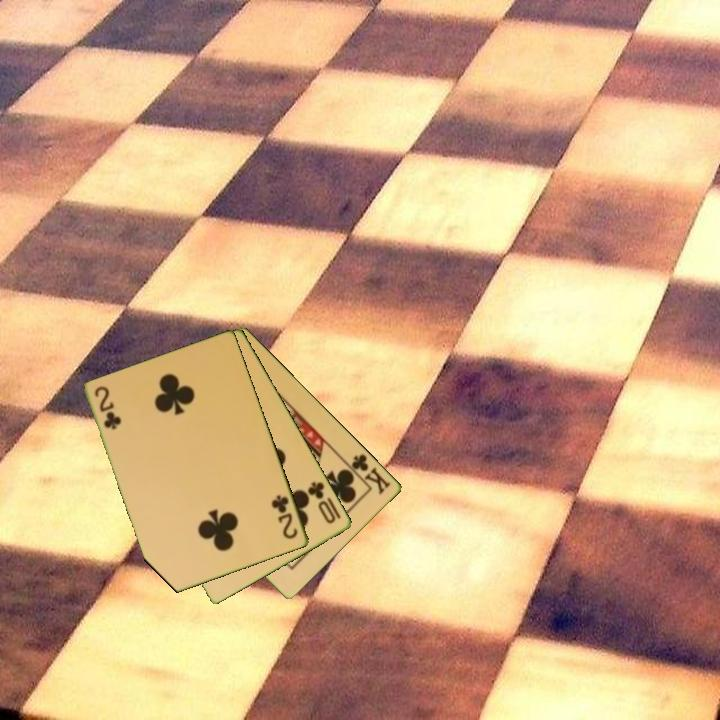10c: (304, 478, 339, 527)
2c: (268, 491, 301, 542), (91, 383, 123, 433)
Kc: (343, 450, 394, 497)
